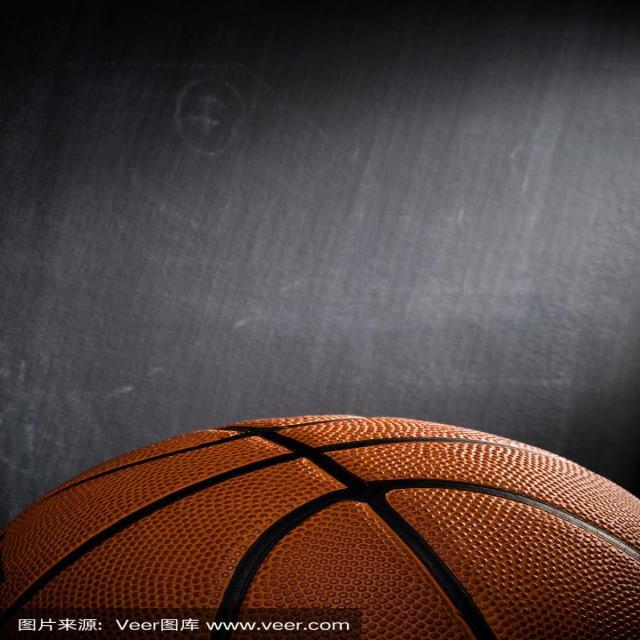rim: (4, 395, 640, 640)
